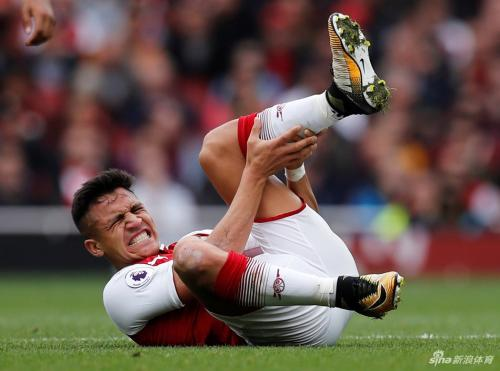down: (64, 6, 410, 351)
